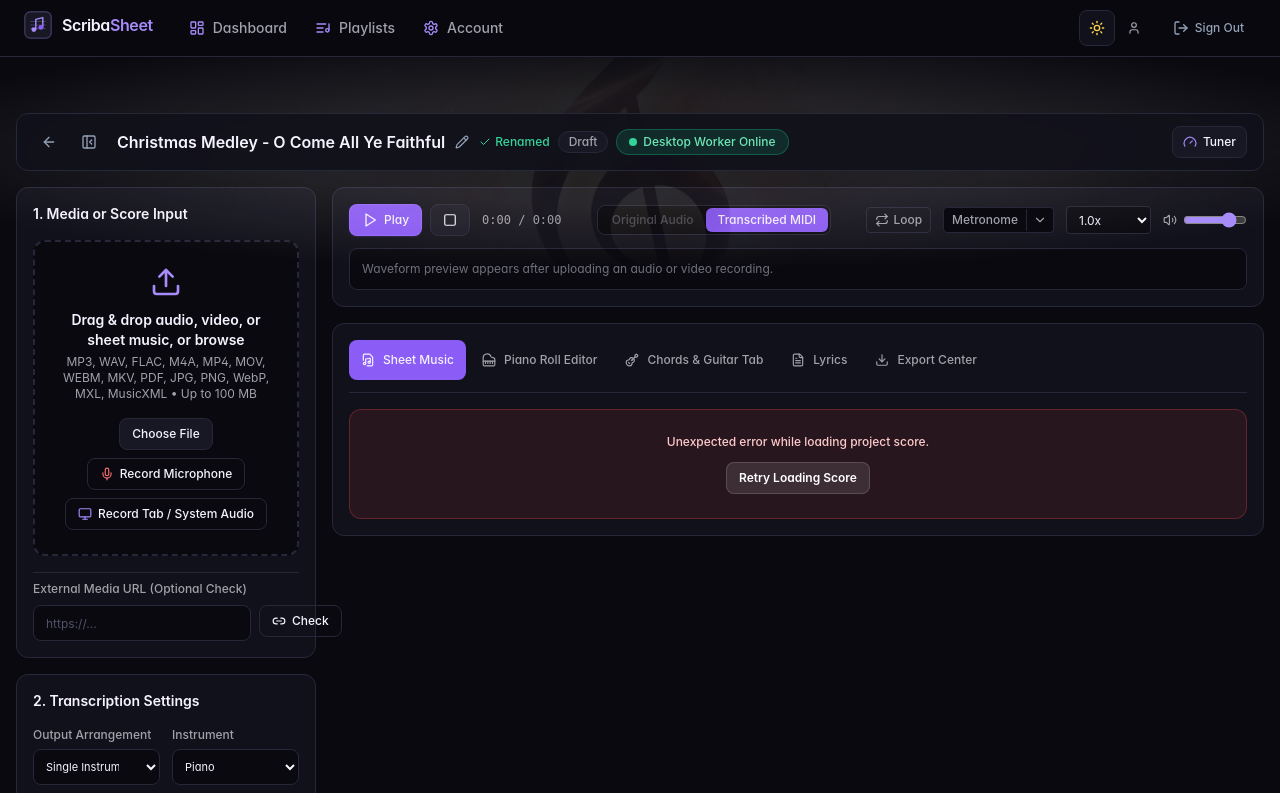
Scenario: Studio Header inline project renaming › enters edit mode via title click or pencil button, selects text, saves once on Enter+Blur, and shows Renamed
Earlier steps of the test are not shown.
Expected: the text "Renamed" is shown, 479,134 -> 550,150
Expected: the heading "Christmas Medley - O Come All Ye Faithful" is shown, 117,130 -> 445,154
Click the button named "rename project". click: (462,142)
box: 451,131 -> 473,153
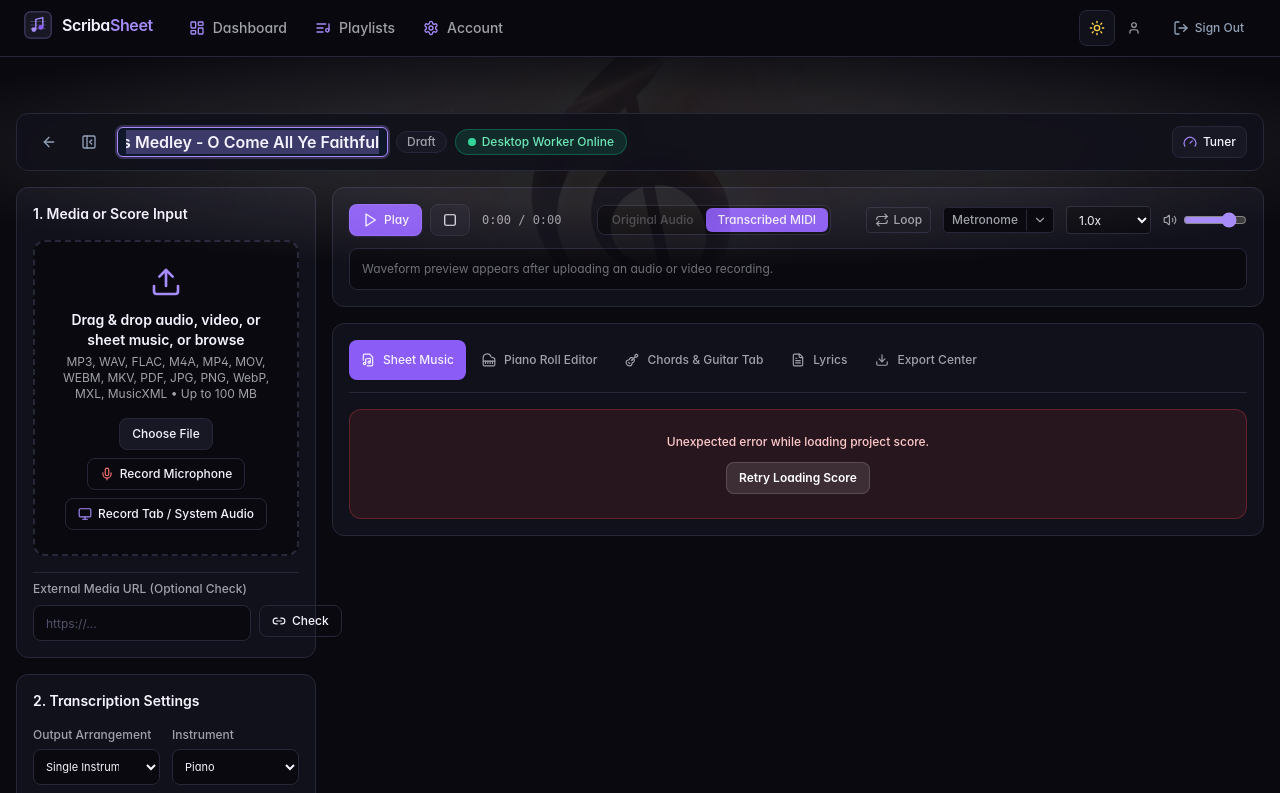
Now the field named "project title" is shown, box 117,127 -> 388,157
